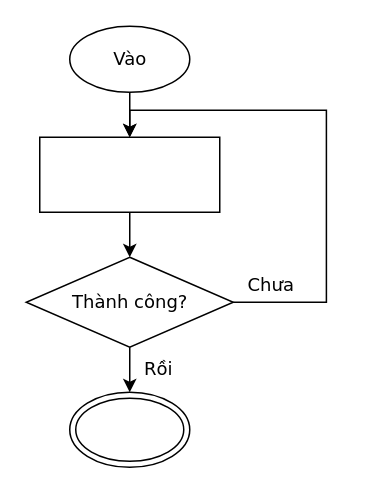
Some shapes in this 366 by 494 pixel diagram are drawn without their labels. The centre of each missing label's shape, as x and y in pixels:
"Thử gửi" goes at point (129, 174).
"Xong" goes at point (129, 429).
